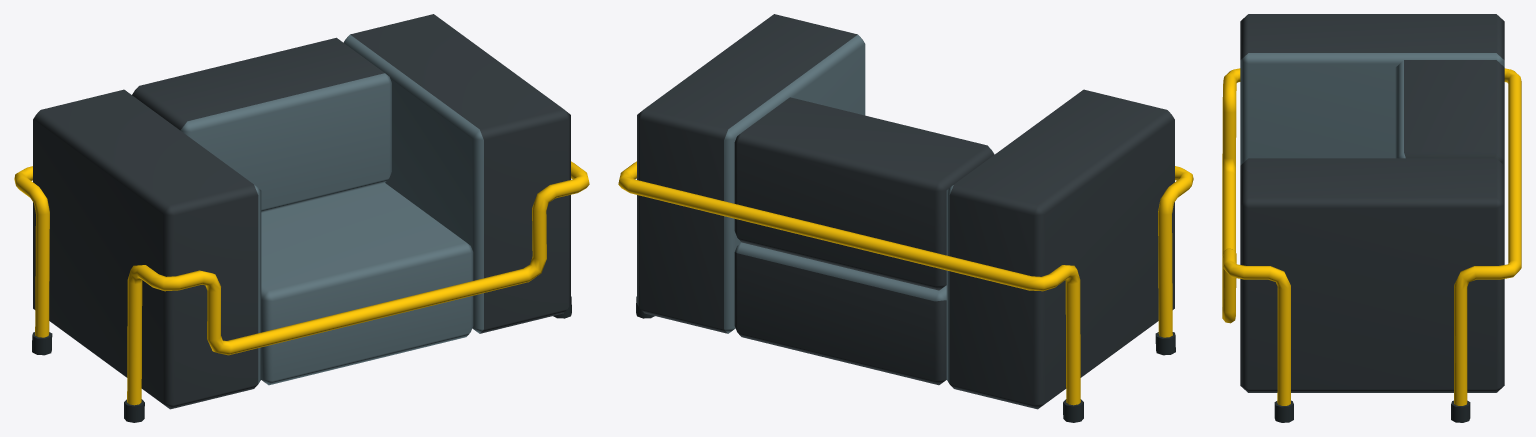
The model's file is Mini_sofa_010.glb.
3 renders of one model, left to right at view 1: azimuth 30°, elevation 25°; view 2: azimuth 150°, elevation 25°; view 3: azimuth 270°, elevation 25°, orthographic. The views are drawn at different scales.
Visible parts, largest first — view 1: Mini_sofa_010; view 2: Mini_sofa_010; view 3: Mini_sofa_010.
Part boxes in pixels (x1,y1,x2,y2): Mini_sofa_010: (14, 14, 589, 422); Mini_sofa_010: (618, 14, 1193, 422); Mini_sofa_010: (1222, 14, 1521, 422).
Size of the model in its own units: 1.76 by 0.8424 by 1.07.
Materials: 1 (1 with a texture image).
